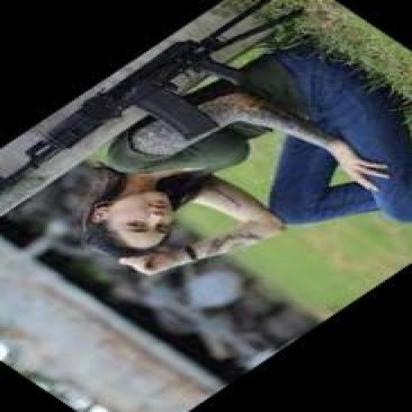Gun: (0, 0, 308, 193)
